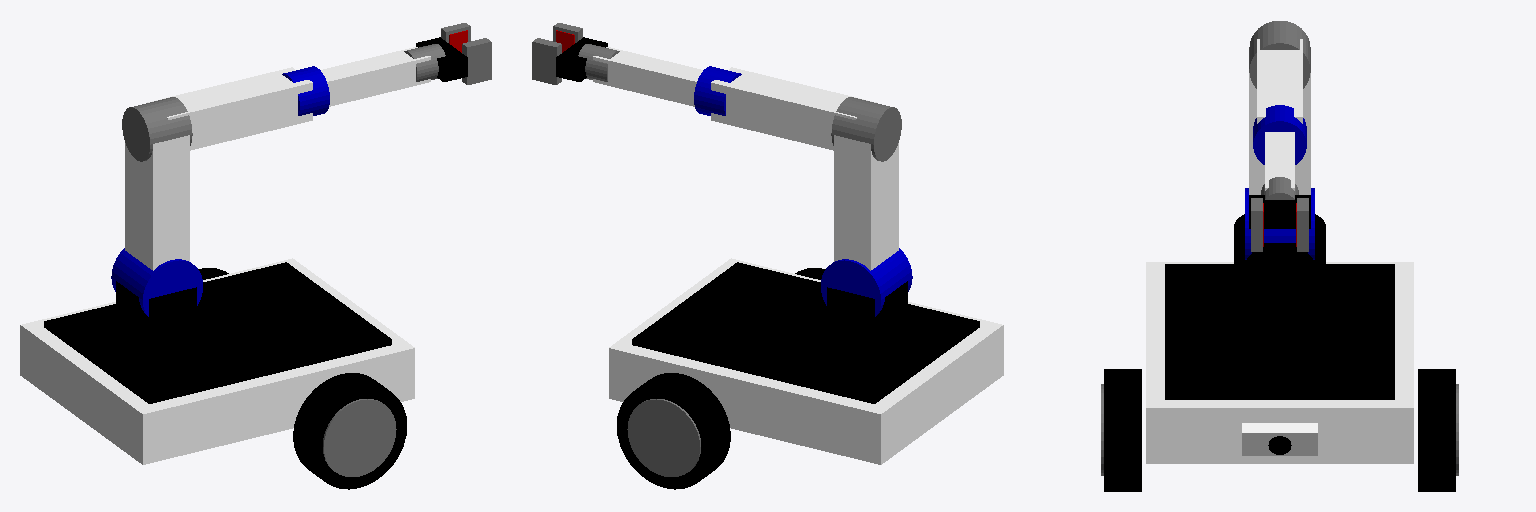
The robot description file, URDF, robot "pickplace_rl_mobile":
<?xml version="1.0"?>
<robot name="pickplace_rl_mobile" xmlns:xacro="http://www.ros.org/wiki/xacro">

  <!-- Materials -->
  <material name="black">
    <color rgba="0.0 0.0 0.0 1.0"/>
  </material>
  <material name="white">
    <color rgba="1.0 1.0 1.0 1.0"/>
  </material>
  <material name="red">
    <color rgba="0.8 0.0 0.0 1.0"/>
  </material>
  <material name="blue">
    <color rgba="0.0 0.0 0.8 1.0"/>
  </material>
  <material name="green">
    <color rgba="0.0 0.8 0.0 1.0"/>
  </material>
  <material name="grey">
    <color rgba="0.5 0.5 0.5 1.0"/>
  </material>

  <link name="dummy_root"/>
  
  <joint name="dummy_joint" type="fixed">
    <parent link="dummy_root"/>
    <child link="base_link"/>
  </joint>

  <!-- Base Link -->
  <link name="base_link">
    <visual>
      <origin xyz="0 0 0.05" rpy="0 0 0"/>
      <geometry>
        <!-- Sleek beveled chassis look -->
        <box size="0.45 0.35 0.08"/>
      </geometry>
      <material name="white"/>
    </visual>
    <!-- Add some top details for aesthetics -->
    <visual>
      <origin xyz="0 0 0.095" rpy="0 0 0"/>
      <geometry>
        <box size="0.4 0.3 0.01"/>
      </geometry>
      <material name="black"/>
    </visual>
    <collision>
      <origin xyz="0 0 0.05" rpy="0 0 0"/>
      <geometry>
        <box size="0.45 0.35 0.08"/>
      </geometry>
    </collision>
    <inertial>
      <mass value="5.0"/>
      <inertia ixx="0.1" ixy="0" ixz="0" iyy="0.1" iyz="0" izz="0.1"/>
    </inertial>
  </link>

  <!-- Left Wheel -->
  <link name="left_wheel">
    <visual>
      <origin xyz="0 0 0" rpy="1.5708 0 0"/>
      <geometry>
        <!-- Larger, wider wheel for better look -->
        <cylinder radius="0.08" length="0.05"/>
      </geometry>
      <material name="black"/>
    </visual>
    <!-- Hubcap visual -->
    <visual>
      <origin xyz="0 0.026 0" rpy="1.5708 0 0"/>
      <geometry>
        <cylinder radius="0.06" length="0.005"/>
      </geometry>
      <material name="grey"/>
    </visual>
    <collision>
      <origin xyz="0 0 0" rpy="1.5708 0 0"/>
      <geometry>
        <cylinder radius="0.08" length="0.05"/>
      </geometry>
    </collision>
    <inertial>
      <mass value="0.5"/>
      <inertia ixx="0.01" ixy="0" ixz="0" iyy="0.01" iyz="0" izz="0.01"/>
    </inertial>
  </link>

  <!-- Right Wheel -->
  <link name="right_wheel">
    <visual>
      <origin xyz="0 0 0" rpy="1.5708 0 0"/>
      <geometry>
        <cylinder radius="0.08" length="0.05"/>
      </geometry>
      <material name="black"/>
    </visual>
    <!-- Hubcap visual -->
    <visual>
      <origin xyz="0 -0.026 0" rpy="1.5708 0 0"/>
      <geometry>
        <cylinder radius="0.06" length="0.005"/>
      </geometry>
      <material name="grey"/>
    </visual>
    <collision>
      <origin xyz="0 0 0" rpy="1.5708 0 0"/>
      <geometry>
        <cylinder radius="0.08" length="0.05"/>
      </geometry>
    </collision>
    <inertial>
      <mass value="0.5"/>
      <inertia ixx="0.01" ixy="0" ixz="0" iyy="0.01" iyz="0" izz="0.01"/>
    </inertial>
  </link>

  <!-- Wheel Joints -->
  <joint name="left_wheel_joint" type="continuous">
    <parent link="base_link"/>
    <child link="left_wheel"/>
    <!-- Positioned wider and slightly forward -->
    <origin xyz="0.1 0.205 0" rpy="0 0 0"/>
    <axis xyz="0 1 0"/>
  </joint>

  <joint name="right_wheel_joint" type="continuous">
    <parent link="base_link"/>
    <child link="right_wheel"/>
    <origin xyz="0.1 -0.205 0" rpy="0 0 0"/>
    <axis xyz="0 1 0"/>
  </joint>

  <!-- Arm Base -->
  <link name="arm_base">
    <visual>
      <origin xyz="0 0 0.05" rpy="0 0 0"/>
      <geometry>
        <!-- Conical stylised base -->
        <cylinder radius="0.06" length="0.1"/>
      </geometry>
      <material name="black"/>
    </visual>
    <collision>
      <origin xyz="0 0 0.05" rpy="0 0 0"/>
      <geometry>
        <cylinder radius="0.06" length="0.1"/>
      </geometry>
    </collision>
    <inertial>
      <mass value="1.0"/>
      <inertia ixx="0.01" ixy="0" ixz="0" iyy="0.01" iyz="0" izz="0.01"/>
    </inertial>
  </link>

  <joint name="arm_base_joint" type="fixed">
    <parent link="base_link"/>
    <child link="arm_base"/>
    <!-- Position offset to back of chassis for balance -->
    <origin xyz="-0.1 0 0.1" rpy="0 0 0"/>
  </joint>

  <!-- Arm Link 1 (Shoulder) -->
  <link name="arm_link1">
    <visual>
      <origin xyz="0 0 0.12" rpy="0 0 0"/>
      <!-- Angled sophisticated arm link -->
      <geometry>
        <box size="0.06 0.08 0.24"/>
      </geometry>
      <material name="white"/>
    </visual>
    <!-- Joint cap aesthetic -->
    <visual>
      <origin xyz="0 0 0" rpy="1.5708 0 0"/>
      <geometry>
        <cylinder radius="0.05" length="0.09"/>
      </geometry>
      <material name="blue"/>
    </visual>
    <collision>
      <origin xyz="0 0 0.12" rpy="0 0 0"/>
      <geometry>
        <box size="0.06 0.08 0.24"/>
      </geometry>
    </collision>
    <inertial>
      <mass value="0.8"/>
      <inertia ixx="0.01" ixy="0" ixz="0" iyy="0.01" iyz="0" izz="0.01"/>
    </inertial>
  </link>

  <joint name="shoulder_joint" type="revolute">
    <parent link="arm_base"/>
    <child link="arm_link1"/>
    <origin xyz="0 0 0.1" rpy="0 0 0"/>
    <axis xyz="0 0 1"/>
    <limit lower="-3.14" upper="3.14" effort="10" velocity="2"/>
  </joint>

  <!-- Arm Link 2 (Upper Arm) -->
  <link name="arm_link2">
    <visual>
      <origin xyz="0.12 0 0" rpy="0 0 0"/>
      <geometry>
        <box size="0.24 0.06 0.06"/>
      </geometry>
      <material name="white"/>
    </visual>
    <!-- joint detail -->
    <visual>
      <origin xyz="0 0 0" rpy="0 1.5708 0"/>
      <geometry>
        <cylinder radius="0.04" length="0.07"/>
      </geometry>
      <material name="grey"/>
    </visual>
    <collision>
      <origin xyz="0.12 0 0" rpy="0 0 0"/>
      <geometry>
        <box size="0.24 0.06 0.06"/>
      </geometry>
    </collision>
    <inertial>
      <mass value="0.6"/>
      <inertia ixx="0.01" ixy="0" ixz="0" iyy="0.01" iyz="0" izz="0.01"/>
    </inertial>
  </link>

  <joint name="shoulder_pitch_joint" type="revolute">
    <parent link="arm_link1"/>
    <child link="arm_link2"/>
    <origin xyz="0 0 0.24" rpy="0 0 0"/>
    <axis xyz="0 1 0"/>
    <limit lower="-1.57" upper="1.57" effort="10" velocity="2"/>
  </joint>

  <!-- Arm Link 3 (Forearm) -->
  <link name="arm_link3">
    <visual>
      <origin xyz="0.1 0 0" rpy="0 0 0"/>
      <geometry>
        <box size="0.2 0.04 0.04"/>
      </geometry>
      <material name="white"/>
    </visual>
    <visual>
      <origin xyz="0 0 0" rpy="0 1.5708 0"/>
      <geometry>
        <cylinder radius="0.035" length="0.05"/>
      </geometry>
      <material name="blue"/>
    </visual>
    <collision>
      <origin xyz="0.1 0 0" rpy="0 0 0"/>
      <geometry>
        <box size="0.2 0.04 0.04"/>
      </geometry>
    </collision>
    <inertial>
      <mass value="0.4"/>
      <inertia ixx="0.01" ixy="0" ixz="0" iyy="0.01" iyz="0" izz="0.01"/>
    </inertial>
  </link>

  <joint name="elbow_joint" type="revolute">
    <parent link="arm_link2"/>
    <child link="arm_link3"/>
    <origin xyz="0.24 0 0" rpy="0 0 0"/>
    <axis xyz="0 1 0"/>
    <limit lower="-2.35" upper="2.35" effort="8" velocity="2"/>
  </joint>

  <!-- Wrist Link -->
  <link name="wrist_link">
    <visual>
      <origin xyz="0 0 0" rpy="0 1.5708 0"/>
      <geometry>
        <cylinder radius="0.025" length="0.05"/>
      </geometry>
      <material name="grey"/>
    </visual>
    <collision>
      <origin xyz="0 0 0" rpy="0 1.5708 0"/>
      <geometry>
        <cylinder radius="0.025" length="0.05"/>
      </geometry>
    </collision>
    <inertial>
      <mass value="0.2"/>
      <inertia ixx="0.001" ixy="0" ixz="0" iyy="0.001" iyz="0" izz="0.001"/>
    </inertial>
  </link>

  <joint name="wrist_roll_joint" type="revolute">
    <parent link="arm_link3"/>
    <child link="wrist_link"/>
    <origin xyz="0.2 0 0" rpy="0 0 0"/>
    <axis xyz="1 0 0"/>
    <limit lower="-3.14" upper="3.14" effort="5" velocity="3"/>
  </joint>

  <!-- End Effector (Gripper Base) -->
  <link name="ee_link">
    <visual>
      <origin xyz="0 0 0" rpy="0 0 0"/>
      <geometry>
        <box size="0.04 0.08 0.03"/>
      </geometry>
      <material name="black"/>
    </visual>
    <collision>
      <origin xyz="0 0 0" rpy="0 0 0"/>
      <geometry>
        <box size="0.04 0.08 0.03"/>
      </geometry>
    </collision>
    <inertial>
      <mass value="0.15"/>
      <inertia ixx="0.001" ixy="0" ixz="0" iyy="0.001" iyz="0" izz="0.001"/>
    </inertial>
  </link>

  <joint name="wrist_pitch_joint" type="revolute">
    <parent link="wrist_link"/>
    <child link="ee_link"/>
    <origin xyz="0.03 0 0" rpy="0 0 0"/>
    <axis xyz="0 1 0"/>
    <limit lower="-1.57" upper="1.57" effort="5" velocity="3"/>
  </joint>

  <!-- Left Gripper Finger -->
  <link name="left_finger">
    <visual>
      <origin xyz="0.02 0 0" rpy="0 0 0"/>
      <geometry>
        <!-- Sleek finger tip -->
        <box size="0.04 0.015 0.06"/>
      </geometry>
      <material name="grey"/>
    </visual>
    <!-- Add an orange gripper pad -->
    <visual>
      <origin xyz="0.02 -0.008 0" rpy="0 0 0"/>
      <geometry>
        <box size="0.03 0.002 0.05"/>
      </geometry>
      <material name="red"/>
    </visual>
    <collision>
      <origin xyz="0.02 0 0" rpy="0 0 0"/>
      <geometry>
        <box size="0.04 0.015 0.06"/>
      </geometry>
    </collision>
    <inertial>
      <mass value="0.05"/>
      <inertia ixx="0.0001" ixy="0" ixz="0" iyy="0.0001" iyz="0" izz="0.0001"/>
    </inertial>
  </link>

  <!-- Right Gripper Finger -->
  <link name="right_finger">
    <visual>
      <origin xyz="0.02 0 0" rpy="0 0 0"/>
      <geometry>
        <box size="0.04 0.015 0.06"/>
      </geometry>
      <material name="grey"/>
    </visual>
    <visual>
      <origin xyz="0.02 0.008 0" rpy="0 0 0"/>
      <geometry>
        <box size="0.03 0.002 0.05"/>
      </geometry>
      <material name="red"/>
    </visual>
    <collision>
      <origin xyz="0.02 0 0" rpy="0 0 0"/>
      <geometry>
        <box size="0.04 0.015 0.06"/>
      </geometry>
    </collision>
    <inertial>
      <mass value="0.05"/>
      <inertia ixx="0.0001" ixy="0" ixz="0" iyy="0.0001" iyz="0" izz="0.0001"/>
    </inertial>
  </link>

  <!-- Gripper Joints -->
  <joint name="left_finger_joint" type="prismatic">
    <parent link="ee_link"/>
    <child link="left_finger"/>
    <origin xyz="0.02 0.03 0" rpy="0 0 0"/>
    <axis xyz="0 1 0"/>
    <limit lower="-0.01" upper="0.03" effort="5" velocity="0.1"/>
  </joint>

  <joint name="right_finger_joint" type="prismatic">
    <parent link="ee_link"/>
    <child link="right_finger"/>
    <origin xyz="0.02 -0.03 0" rpy="0 0 0"/>
    <axis xyz="0 -1 0"/>
    <limit lower="-0.01" upper="0.03" effort="5" velocity="0.1"/>
  </joint>

  <!-- Camera Link -->
  <link name="camera_link">
    <!-- Camera housing -->
    <visual>
      <origin xyz="0 0 0" rpy="0 0 0"/>
      <geometry>
        <box size="0.04 0.1 0.04"/>
      </geometry>
      <material name="white"/>
    </visual>
    <!-- Camera lens -->
    <visual>
      <origin xyz="0.021 0 0" rpy="0 1.5708 0"/>
      <geometry>
        <cylinder radius="0.015" length="0.005"/>
      </geometry>
      <material name="black"/>
    </visual>
    <collision>
      <origin xyz="0 0 0" rpy="0 0 0"/>
      <geometry>
        <box size="0.04 0.1 0.04"/>
      </geometry>
    </collision>
    <inertial>
      <mass value="0.1"/>
      <inertia ixx="0.0001" ixy="0" ixz="0" iyy="0.0001" iyz="0" izz="0.0001"/>
    </inertial>
  </link>

  <joint name="camera_joint" type="fixed">
    <parent link="base_link"/>
    <child link="camera_link"/>
    <!-- Positioned elegantly at front center looking down -->
    <origin xyz="0.22 0 0.05" rpy="0 0.3 0"/>
  </joint>

  <!-- Camera Optical Frame -->
  <link name="camera_optical_frame"/>

  <joint name="camera_optical_joint" type="fixed">
    <parent link="camera_link"/>
    <child link="camera_optical_frame"/>
    <origin xyz="0 0 0" rpy="-1.5708 0 -1.5708"/>
  </joint>

  <!-- Gazebo Harmonic Plugins -->
  <gazebo>
    <plugin filename="gz-sim-diff-drive-system" name="gz::sim::systems::DiffDrive">
      <left_joint>left_wheel_joint</left_joint>
      <right_joint>right_wheel_joint</right_joint>
      <wheel_separation>0.33</wheel_separation>
      <wheel_radius>0.05</wheel_radius>
      <odom_publish_frequency>50</odom_publish_frequency>
      <topic>cmd_vel</topic>
      <odom_topic>odom</odom_topic>
      <frame_id>odom</frame_id>
      <child_frame_id>base_link</child_frame_id>
    </plugin>
    
    <plugin filename="gz-sim-joint-state-publisher-system" name="gz::sim::systems::JointStatePublisher">
      <topic>joint_states</topic>
      <joint_name>shoulder_joint</joint_name>
      <joint_name>shoulder_pitch_joint</joint_name>
      <joint_name>elbow_joint</joint_name>
      <joint_name>wrist_roll_joint</joint_name>
      <joint_name>wrist_pitch_joint</joint_name>
      <joint_name>left_finger_joint</joint_name>
      <joint_name>right_finger_joint</joint_name>
    </plugin>

    <!-- Arm Joint Controllers -->
    <plugin filename="gz-sim-joint-controller-system" name="gz::sim::systems::JointController">
      <joint_name>shoulder_joint</joint_name>
      <initial_velocity>0.0</initial_velocity>
      <topic>/shoulder_pan_joint/cmd_vel</topic>
    </plugin>
    <plugin filename="gz-sim-joint-controller-system" name="gz::sim::systems::JointController">
      <joint_name>shoulder_pitch_joint</joint_name>
      <initial_velocity>0.0</initial_velocity>
      <topic>/shoulder_lift_joint/cmd_vel</topic>
    </plugin>
    <plugin filename="gz-sim-joint-controller-system" name="gz::sim::systems::JointController">
      <joint_name>elbow_joint</joint_name>
      <initial_velocity>0.0</initial_velocity>
      <topic>/elbow_joint/cmd_vel</topic>
    </plugin>
    <plugin filename="gz-sim-joint-controller-system" name="gz::sim::systems::JointController">
      <joint_name>wrist_roll_joint</joint_name>
      <initial_velocity>0.0</initial_velocity>
      <topic>/wrist_1_joint/cmd_vel</topic>
    </plugin>
    <plugin filename="gz-sim-joint-controller-system" name="gz::sim::systems::JointController">
      <joint_name>wrist_pitch_joint</joint_name>
      <initial_velocity>0.0</initial_velocity>
      <topic>/wrist_2_joint/cmd_vel</topic>
    </plugin>
    
    <!-- Gripper Controllers -->
    <plugin filename="gz-sim-joint-controller-system" name="gz::sim::systems::JointController">
      <joint_name>left_finger_joint</joint_name>
      <initial_velocity>0.0</initial_velocity>
      <topic>/finger_joint/cmd_vel</topic>
    </plugin>
    <plugin filename="gz-sim-joint-controller-system" name="gz::sim::systems::JointController">
      <joint_name>right_finger_joint</joint_name>
      <initial_velocity>0.0</initial_velocity>
      <topic>/finger_joint/cmd_vel</topic>
    </plugin>
  </gazebo>

  <!-- LiDAR Link -->
  <link name="lidar_link">
    <visual>
      <origin xyz="0 0 0" rpy="0 0 0"/>
      <geometry>
        <cylinder radius="0.03" length="0.04"/>
      </geometry>
      <material name="black"/>
    </visual>
    <collision>
      <origin xyz="0 0 0" rpy="0 0 0"/>
      <geometry>
        <cylinder radius="0.03" length="0.04"/>
      </geometry>
    </collision>
    <inertial>
      <mass value="0.05"/>
      <inertia ixx="0.0001" ixy="0" ixz="0" iyy="0.0001" iyz="0" izz="0.0001"/>
    </inertial>
  </link>

  <joint name="lidar_joint" type="fixed">
    <parent link="base_link"/>
    <child link="lidar_link"/>
    <!-- Mounted on top center of chassis -->
    <origin xyz="0.0 0 0.12" rpy="0 0 0"/>
  </joint>

  <!-- Camera Plugin (RGB) -->
  <gazebo reference="camera_link">
    <sensor name="camera" type="camera">
      <update_rate>30.0</update_rate>
      <always_on>true</always_on>
      <visualize>true</visualize>
      <topic>camera/image_raw</topic>
      <camera>
        <horizontal_fov>1.047198</horizontal_fov>
        <image>
          <width>640</width>
          <height>480</height>
          <format>R8G8B8</format>
        </image>
        <clip>
          <near>0.05</near>
          <far>3</far>
        </clip>
      </camera>
    </sensor>
  </gazebo>

  <!-- Depth Camera Plugin (RGB-D) -->
  <gazebo reference="camera_link">
    <sensor name="depth_camera" type="depth_camera">
      <update_rate>15.0</update_rate>
      <always_on>true</always_on>
      <visualize>false</visualize>
      <topic>camera/depth</topic>
      <camera>
        <horizontal_fov>1.047198</horizontal_fov>
        <image>
          <width>640</width>
          <height>480</height>
          <format>R_FLOAT32</format>
        </image>
        <clip>
          <near>0.05</near>
          <far>3</far>
        </clip>
      </camera>
    </sensor>
  </gazebo>

  <!-- 2D LiDAR Plugin for Nav2 -->
  <gazebo reference="lidar_link">
    <sensor name="lidar" type="gpu_lidar">
      <update_rate>10.0</update_rate>
      <always_on>true</always_on>
      <visualize>true</visualize>
      <topic>scan</topic>
      <ray>
        <scan>
          <horizontal>
            <samples>640</samples>
            <resolution>1</resolution>
            <min_angle>-3.14159</min_angle>
            <max_angle>3.14159</max_angle>
          </horizontal>
        </scan>
        <range>
          <min>0.1</min>
          <max>12.0</max>
          <resolution>0.01</resolution>
        </range>
        <noise>
          <type>gaussian</type>
          <mean>0.0</mean>
          <stddev>0.01</stddev>
        </noise>
      </ray>
    </sensor>
  </gazebo>

</robot>

--- Render facts (derived) ---
Views: 3 orthographic renders of the robot side by side, from view 1: azimuth 30°, elevation 25°; view 2: azimuth 150°, elevation 25°; view 3: azimuth 270°, elevation 25°.
Robot: pickplace_rl_mobile — 15 links, 14 joints (5 revolute, 2 continuous, 2 prismatic, 5 fixed); root link dummy_root; default pose: every joint at zero.
Visible links, largest first — view 1: base_link, arm_link1, right_wheel, arm_link2, arm_base, arm_link3, lidar_link, right_finger, ee_link, wrist_link, left_finger; view 2: base_link, arm_link1, left_wheel, arm_link2, arm_base, arm_link3, lidar_link, left_finger, ee_link, wrist_link, right_finger; view 3: base_link, arm_base, left_wheel, right_wheel, arm_link2, arm_link3, arm_link1, camera_link, lidar_link, ee_link, left_finger, right_finger (+1 smaller).
Link boxes in pixels (x1,y1,x2,y2): base_link: [20, 258, 414, 464]; arm_link1: [111, 135, 202, 316]; right_wheel: [293, 373, 406, 489]; arm_link2: [122, 67, 312, 161]; arm_base: [116, 281, 198, 362]; arm_link3: [282, 47, 430, 115]; lidar_link: [199, 296, 238, 338]; right_finger: [462, 38, 491, 84]; ee_link: [416, 37, 467, 81]; wrist_link: [404, 44, 445, 81]; left_finger: [441, 23, 470, 52]; base_link: [609, 258, 1003, 464]; arm_link1: [821, 135, 912, 316]; left_wheel: [617, 373, 730, 489]; arm_link2: [711, 67, 901, 161]; arm_base: [825, 281, 907, 362]; arm_link3: [593, 47, 741, 115]; lidar_link: [785, 296, 824, 338]; left_finger: [532, 38, 561, 84]; ee_link: [556, 37, 607, 81]; wrist_link: [578, 44, 619, 81]; right_finger: [553, 23, 582, 52]; base_link: [1146, 262, 1413, 463]; arm_base: [1234, 214, 1325, 312]; left_wheel: [1418, 369, 1458, 491]; right_wheel: [1101, 369, 1141, 491]; arm_link2: [1249, 21, 1310, 123]; arm_link3: [1253, 105, 1306, 190]; arm_link1: [1245, 73, 1314, 259]; camera_link: [1242, 423, 1317, 455]; lidar_link: [1257, 291, 1302, 337]; ee_link: [1249, 195, 1310, 228]; left_finger: [1296, 198, 1308, 251]; right_finger: [1251, 198, 1263, 251].
Bounding box of the posed robot: 0.655 × 0.467 × 0.56 m (x, y, z).
Geometry: primitives only (box / cylinder / sphere), no mesh files.
